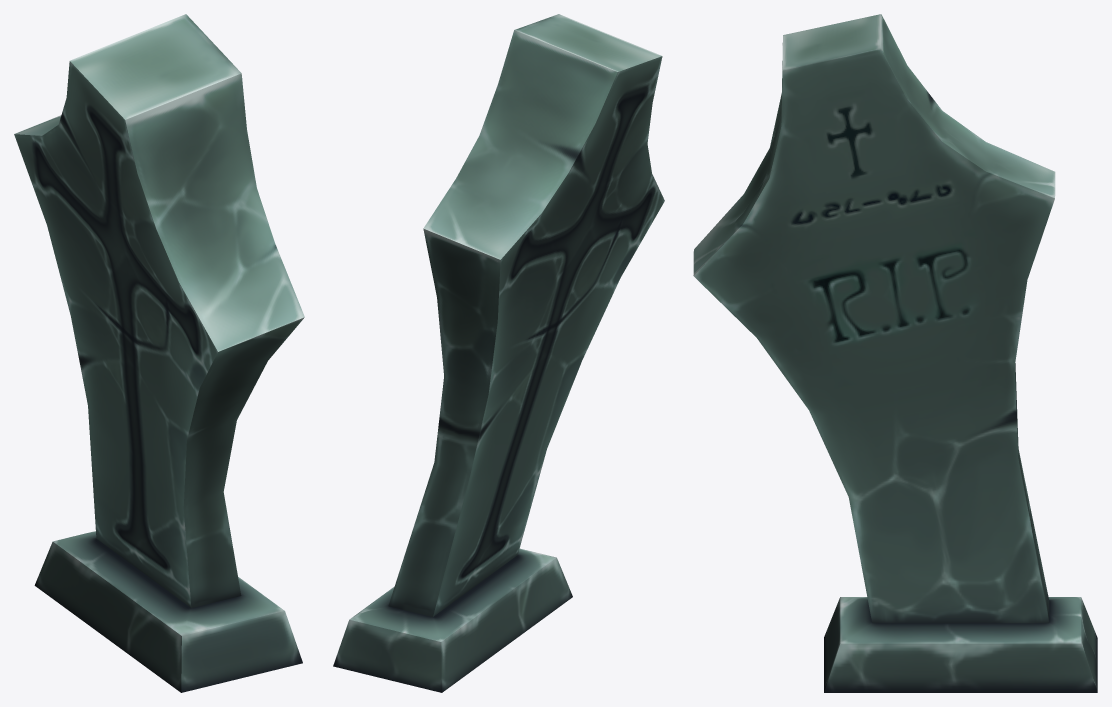
Rendered from tombstone_big_02.fbx.
3 views of the same model, side by side, from view 1: azimuth 30°, elevation 25°; view 2: azimuth 150°, elevation 25°; view 3: azimuth 270°, elevation 25° (orthographic). The views are drawn at different scales.
Visible parts, largest first — view 1: tombstone_big_02; view 2: tombstone_big_02; view 3: tombstone_big_02.
Part boxes in pixels (x1,y1,x2,y2): tombstone_big_02: (14, 14, 304, 692); tombstone_big_02: (333, 14, 664, 692); tombstone_big_02: (693, 14, 1097, 692).
Size of the model in its own units: 4.94 by 15.1 by 9.15.
